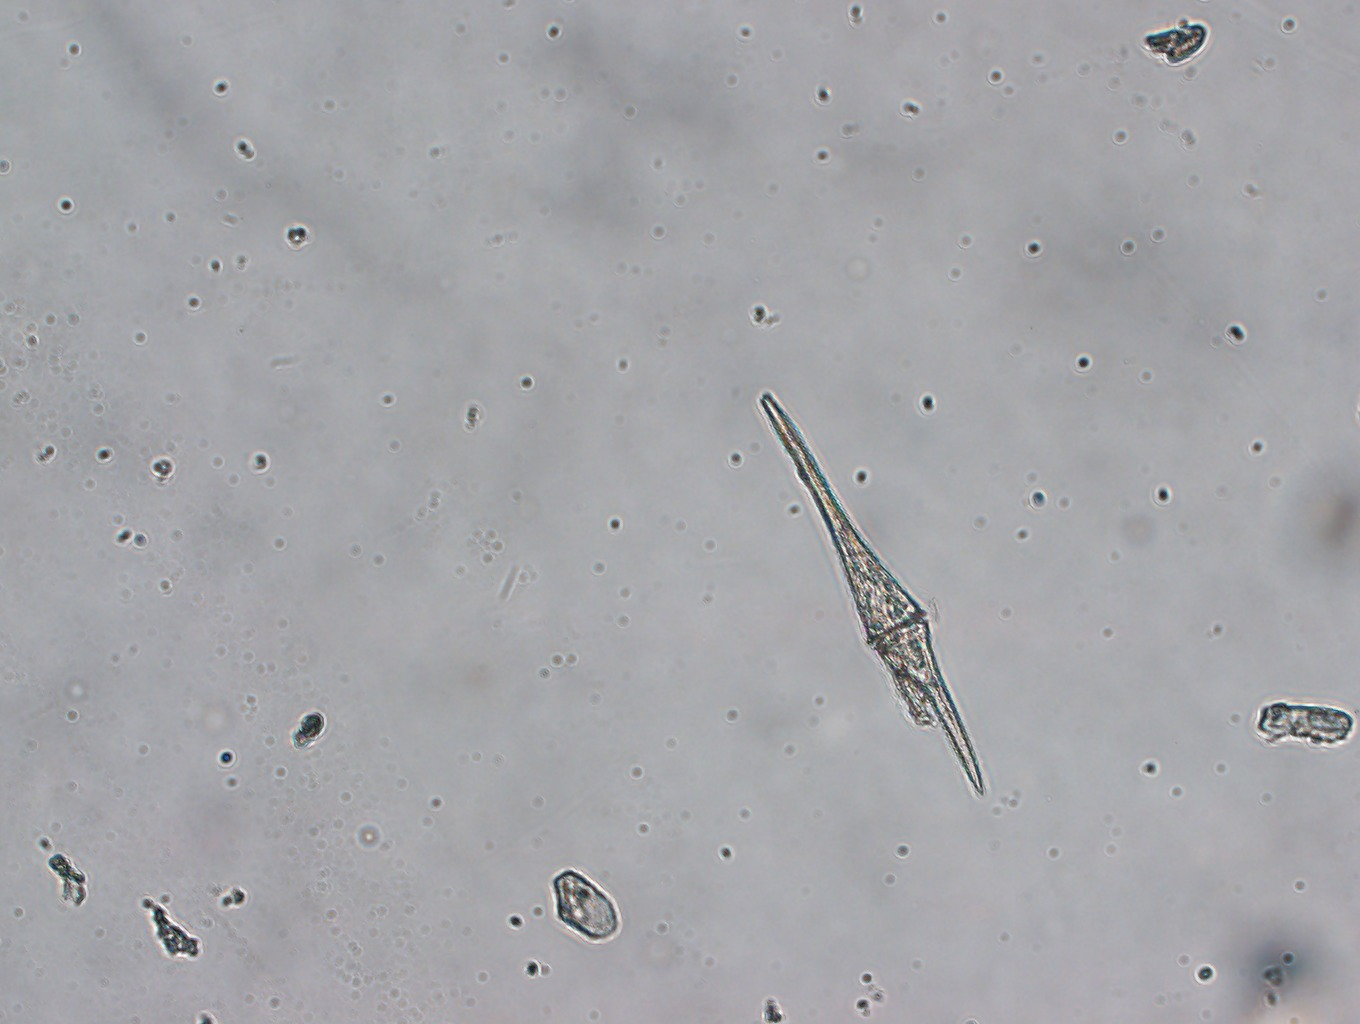ceratium furca: (758, 393, 984, 796)
